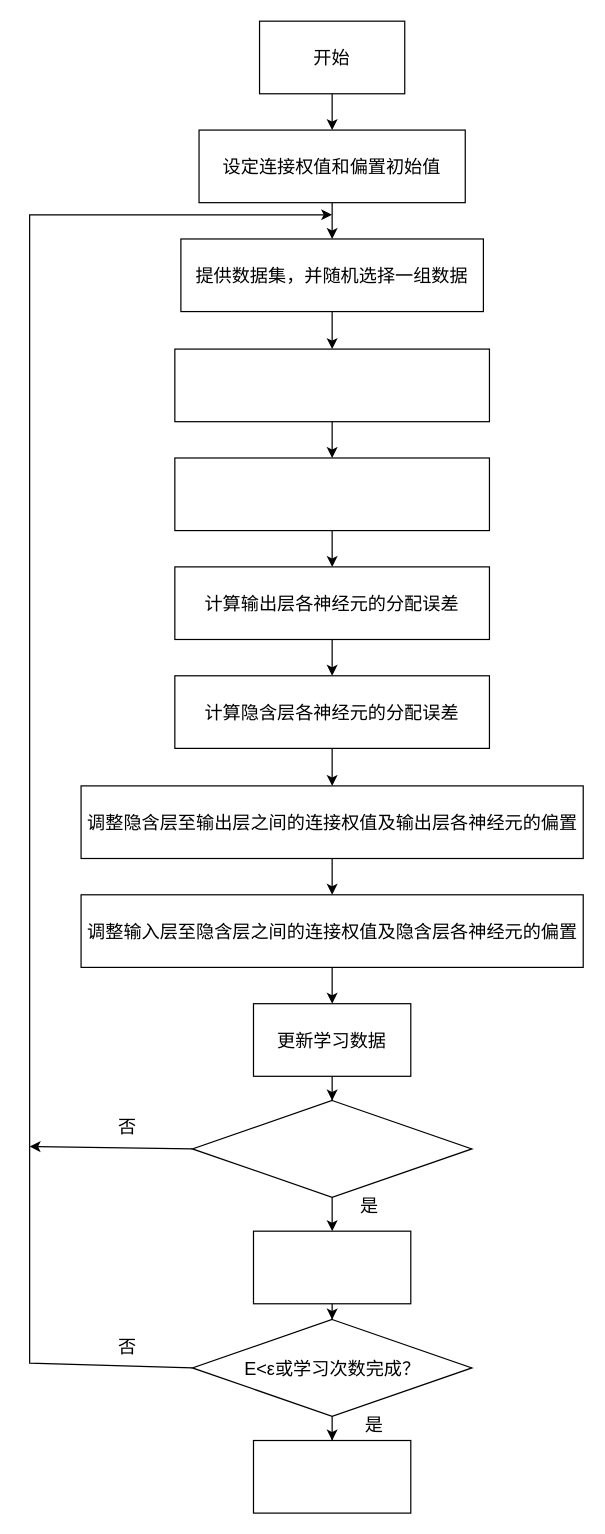
This 605x1534 diagram has some shape labels left out. The shapes that lost their labels are listed below. From the top down, each one's box as (x1, y1, x2, y2) in pixels, then its label:
(174, 348, 489, 422): 计算隐含层各神经元的输入和输出
(174, 457, 489, 531): 计算输出层各神经元的输入和输出
(191, 1099, 472, 1197): 所有数据均训练完成？
(252, 1230, 411, 1304): 更新学习次数
(252, 1439, 411, 1513): 训练结束
